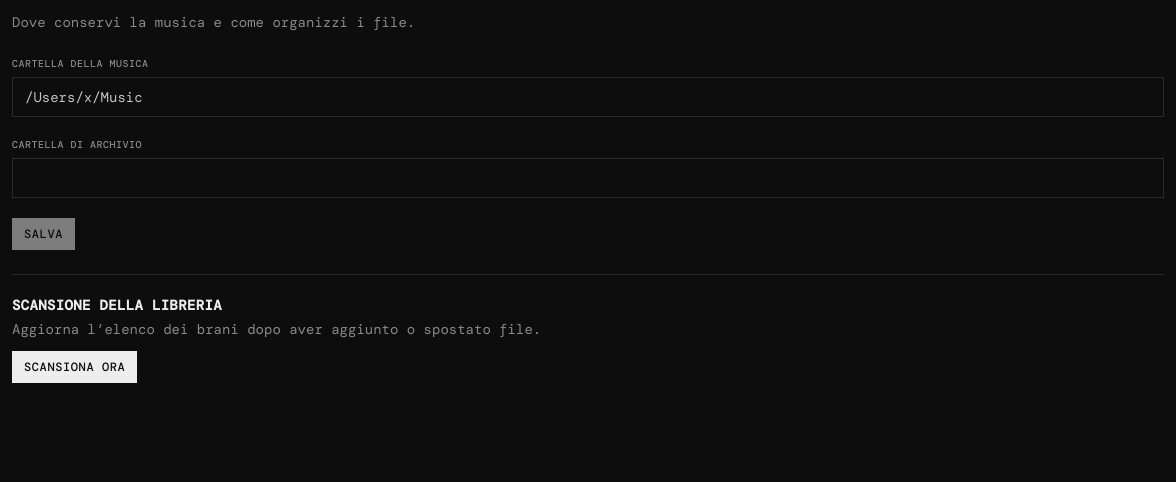
Scenario: ConfigCard: bozze per sezione › un salvataggio fallito conserva la bozza e mostra l'errore
The width and height of the screenshot is (1176, 482).
Replace the text in the field showing "/Users/x/Music" with "/Music/Draft": coordinates (588, 97) [12,77,1164,117]
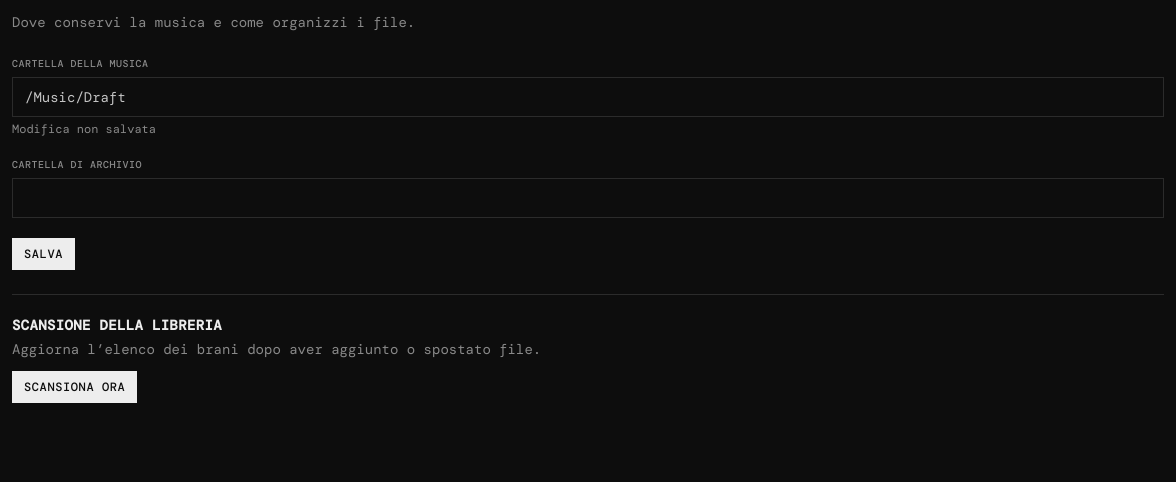
Click the button "Salva": coordinates (44, 254) [12,238,75,270]
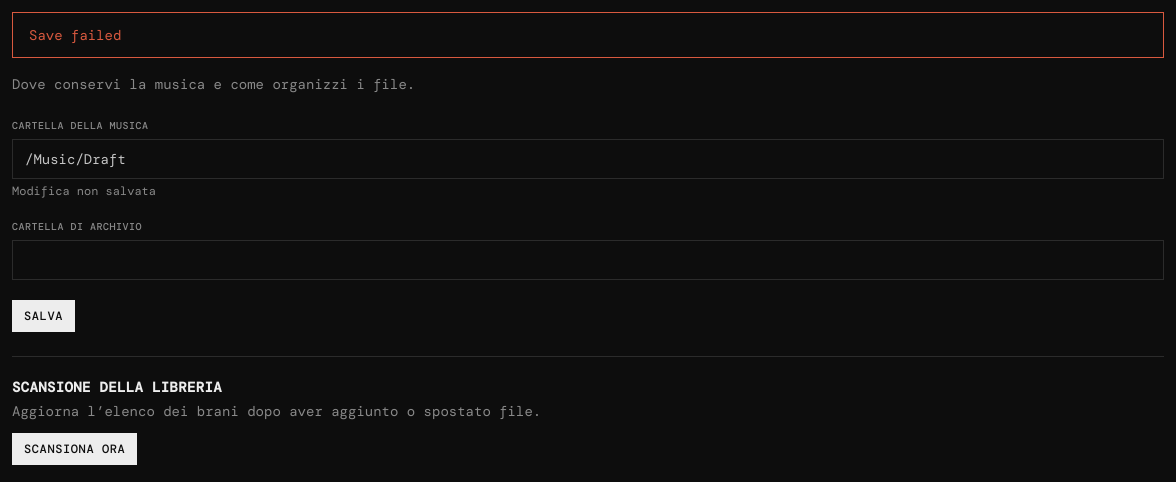
expect the message reads "Save failed": met, box [29,26,121,44]
